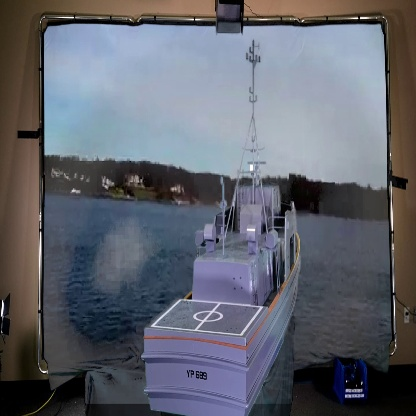YP689: (139, 41, 306, 416)
